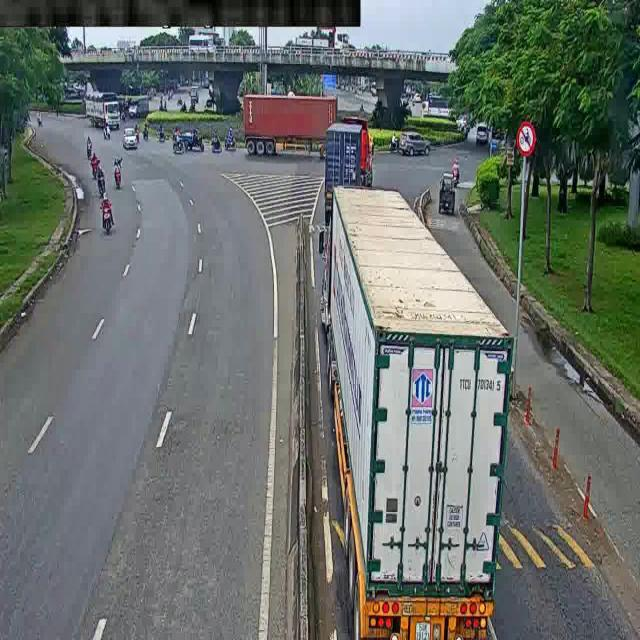car: (393, 123, 436, 163), (119, 124, 141, 152)
motorbike: (163, 123, 207, 155), (435, 165, 462, 216), (96, 192, 121, 237), (108, 155, 131, 193), (89, 166, 110, 197), (80, 131, 99, 162), (207, 130, 227, 153), (451, 159, 467, 186), (140, 121, 156, 140), (103, 120, 118, 140), (133, 119, 146, 141), (89, 155, 100, 177), (158, 123, 170, 142)
truck: (297, 190, 528, 640), (233, 93, 342, 156), (321, 116, 383, 202), (69, 87, 121, 126), (414, 94, 465, 124)
